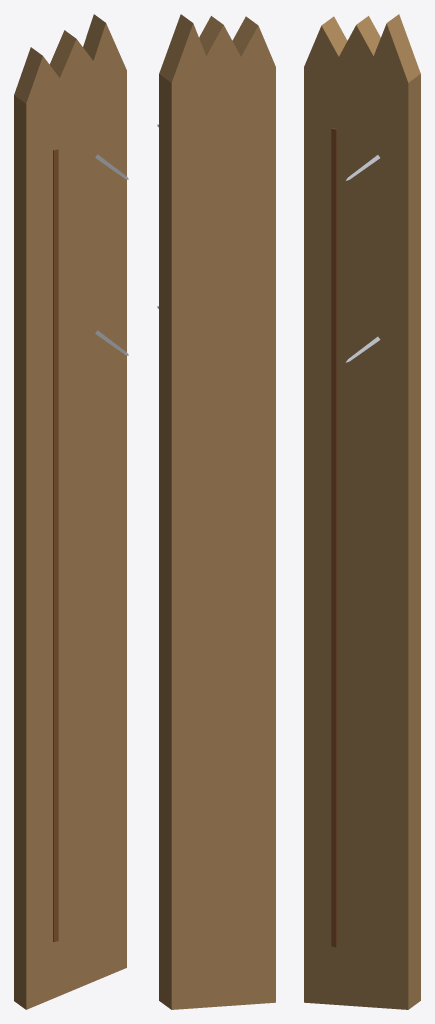
File: plank.glb
3 views of the same model, side by side, from view 1: azimuth 30°, elevation 25°; view 2: azimuth 210°, elevation 25°; view 3: azimuth 330°, elevation 25° (orthographic). The views are drawn at different scales.
Visible parts, largest first — view 1: plank; view 2: plank; view 3: plank.
Boxes of the visible parts, bbox=[...] form: plank: bbox=[14, 14, 128, 1009]; plank: bbox=[157, 14, 275, 1009]; plank: bbox=[304, 14, 420, 1009].
Size of the model in its own units: 0.12 by 1.1 by 0.0895.
